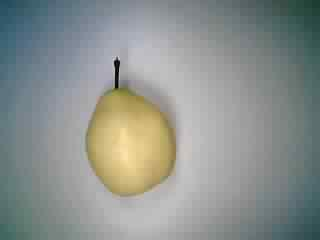pear: (77, 51, 180, 200)
